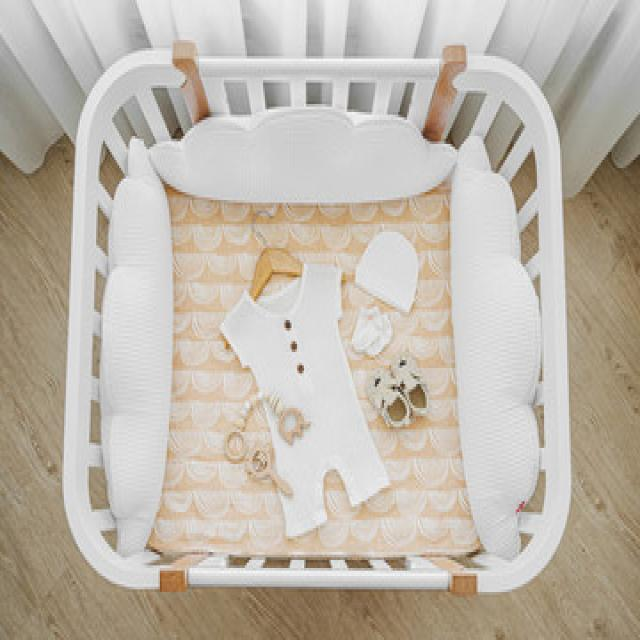crib: (59, 37, 572, 595)
